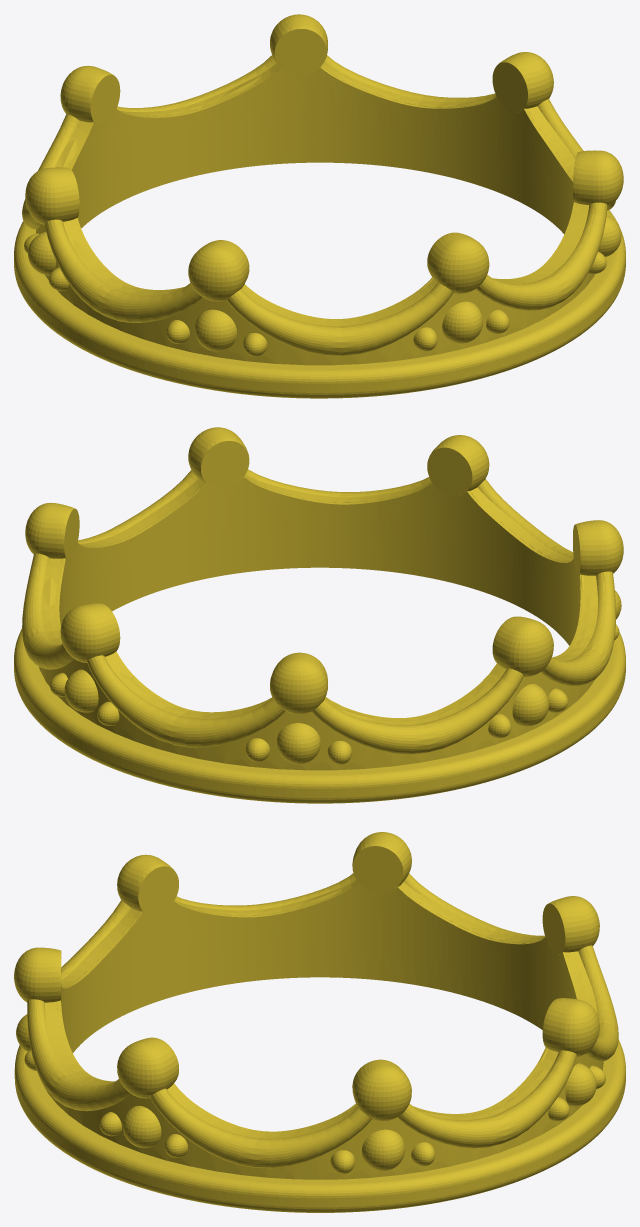
The model's file is crown.fbx.
3 renders of one model, top to bottom at view 1: azimuth 30°, elevation 25°; view 2: azimuth 150°, elevation 25°; view 3: azimuth 270°, elevation 25°, orthographic.
Parts seen in each view (by area): view 1: 31456; view 2: 31456; view 3: 31456.
Part boxes in pixels (left/top/right/bottom): 31456: left=14, top=14, right=625, bottom=398; 31456: left=14, top=427, right=625, bottom=803; 31456: left=14, top=832, right=625, bottom=1212.
Bounding box in the file's own units: 348 × 86.03 × 348.
